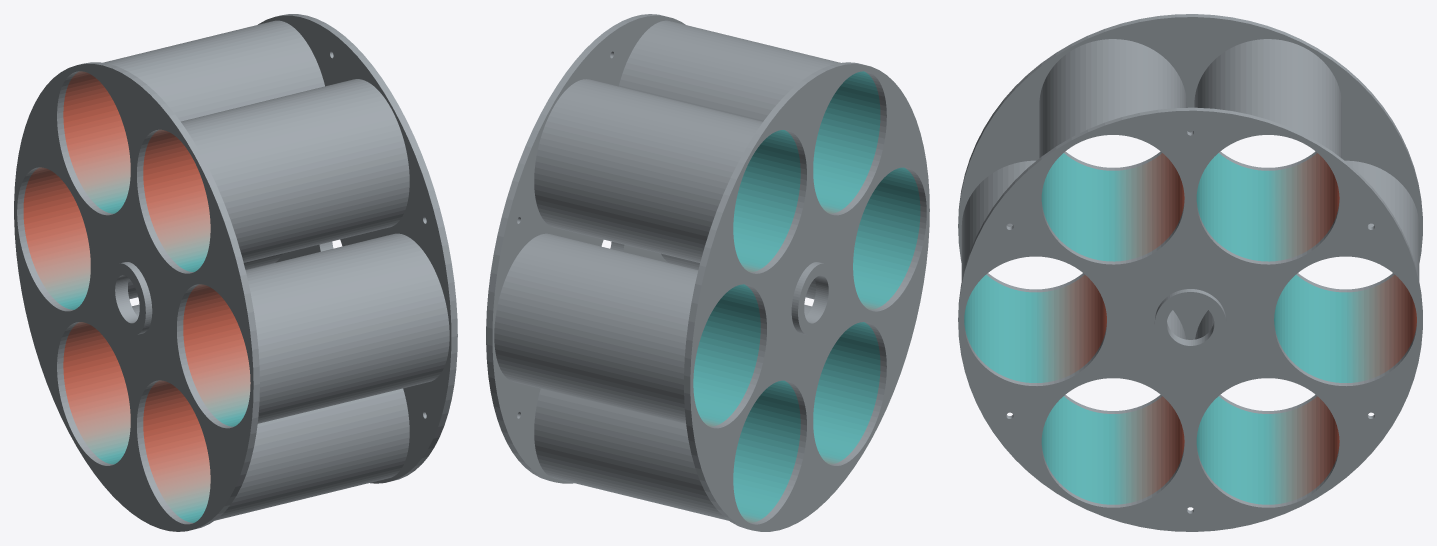
Rendered from drum_1020_NORMALIZED_SOUR_REFERENCE.glb.
3 renders of one model, left to right at view 1: azimuth 30°, elevation 25°; view 2: azimuth 150°, elevation 25°; view 3: azimuth 270°, elevation 25°, orthographic. The views are drawn at different scales.
Parts seen in each view (by area): view 1: front_end_plate, chamber_1, chamber_6, chamber_2, chamber_5, rear_end_plate, chamber_4, chamber_3, hub_1; view 2: front_end_plate, chamber_4, chamber_5, chamber_3, chamber_6, rear_end_plate, chamber_1, chamber_2, hub_1; view 3: rear_end_plate, chamber_5, chamber_6, front_end_plate, chamber_1, chamber_4, chamber_2, chamber_3, hub_2.
Boxes of the visible parts, bbox=[...] form: front_end_plate: bbox=[14, 62, 259, 531]; chamber_1: bbox=[183, 233, 449, 426]; chamber_6: bbox=[143, 79, 409, 272]; chamber_2: bbox=[143, 380, 409, 522]; chamber_5: bbox=[63, 20, 324, 213]; rear_end_plate: bbox=[258, 14, 457, 483]; chamber_4: bbox=[23, 167, 282, 309]; chamber_3: bbox=[63, 304, 139, 464]; hub_1: bbox=[109, 262, 152, 335]; front_end_plate: bbox=[684, 62, 929, 531]; chamber_4: bbox=[494, 233, 760, 426]; chamber_5: bbox=[534, 79, 800, 272]; chamber_3: bbox=[534, 380, 800, 522]; chamber_6: bbox=[618, 20, 880, 213]; rear_end_plate: bbox=[486, 14, 685, 483]; chamber_1: bbox=[661, 167, 920, 309]; chamber_2: bbox=[804, 304, 880, 464]; hub_1: bbox=[791, 262, 834, 335]; rear_end_plate: bbox=[958, 107, 1422, 531]; chamber_5: bbox=[1194, 39, 1341, 261]; chamber_6: bbox=[1039, 39, 1186, 261]; front_end_plate: bbox=[958, 14, 1422, 413]; chamber_1: bbox=[961, 160, 1106, 382]; chamber_4: bbox=[1274, 160, 1419, 382]; chamber_2: bbox=[1041, 310, 1185, 504]; chamber_3: bbox=[1195, 310, 1339, 504]; hub_2: bbox=[1154, 289, 1226, 356].
Size of the model in its own units: 1020 by 1950 by 1949.
